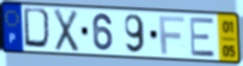6: (91, 12, 115, 53)
9: (124, 13, 146, 55)
D: (22, 6, 54, 52)
E: (189, 17, 218, 59)
F: (157, 15, 186, 56)
X: (53, 7, 80, 54)
